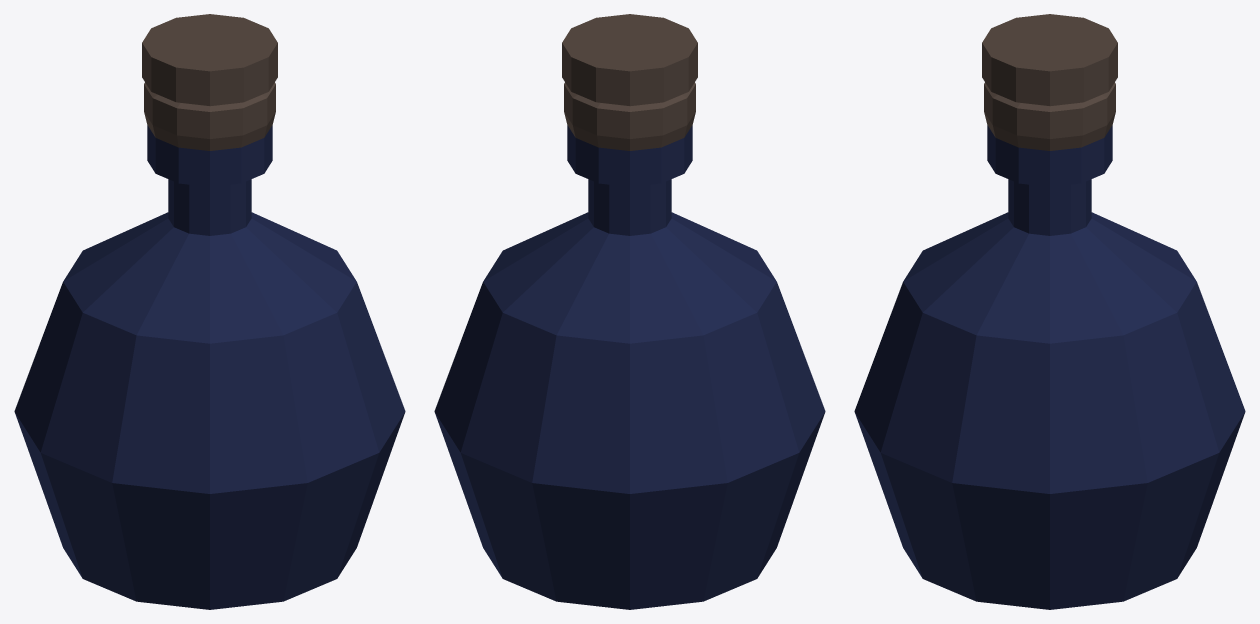
The model's file is Medicine_bottle_2.fbx.
3 views of the same model, side by side, from view 1: azimuth 30°, elevation 25°; view 2: azimuth 150°, elevation 25°; view 3: azimuth 270°, elevation 25° (orthographic).
Parts seen in each view (by area): view 1: Medicine_bottle_2; view 2: Medicine_bottle_2; view 3: Medicine_bottle_2.
Boxes of the visible parts, box(x1,y1,x2,y2) form: Medicine_bottle_2: box(14, 14, 405, 609); Medicine_bottle_2: box(434, 14, 825, 609); Medicine_bottle_2: box(854, 14, 1245, 609).
Size of the model in its own units: 25.71 by 25.71 by 36.65.
